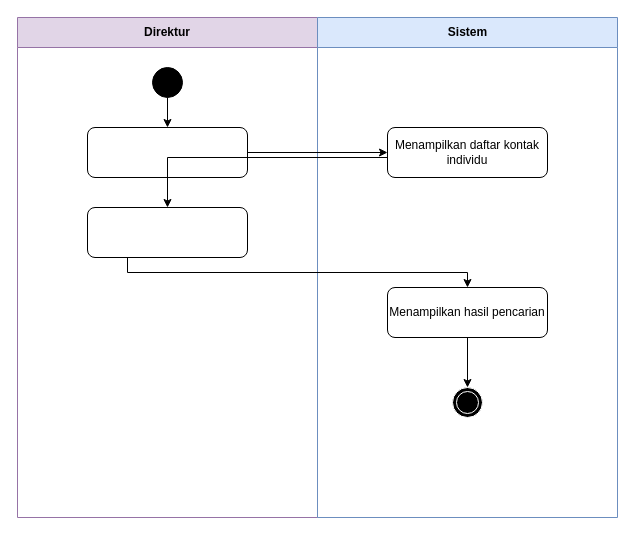
This 635x535 diagram has some shape labels left out. The box of each missing label's shape, as (x1, y1, x2, y2) in pixels:
Memilih menu Kontak: (86, 126, 248, 178)
Mencari nama kontak: (86, 206, 248, 258)
